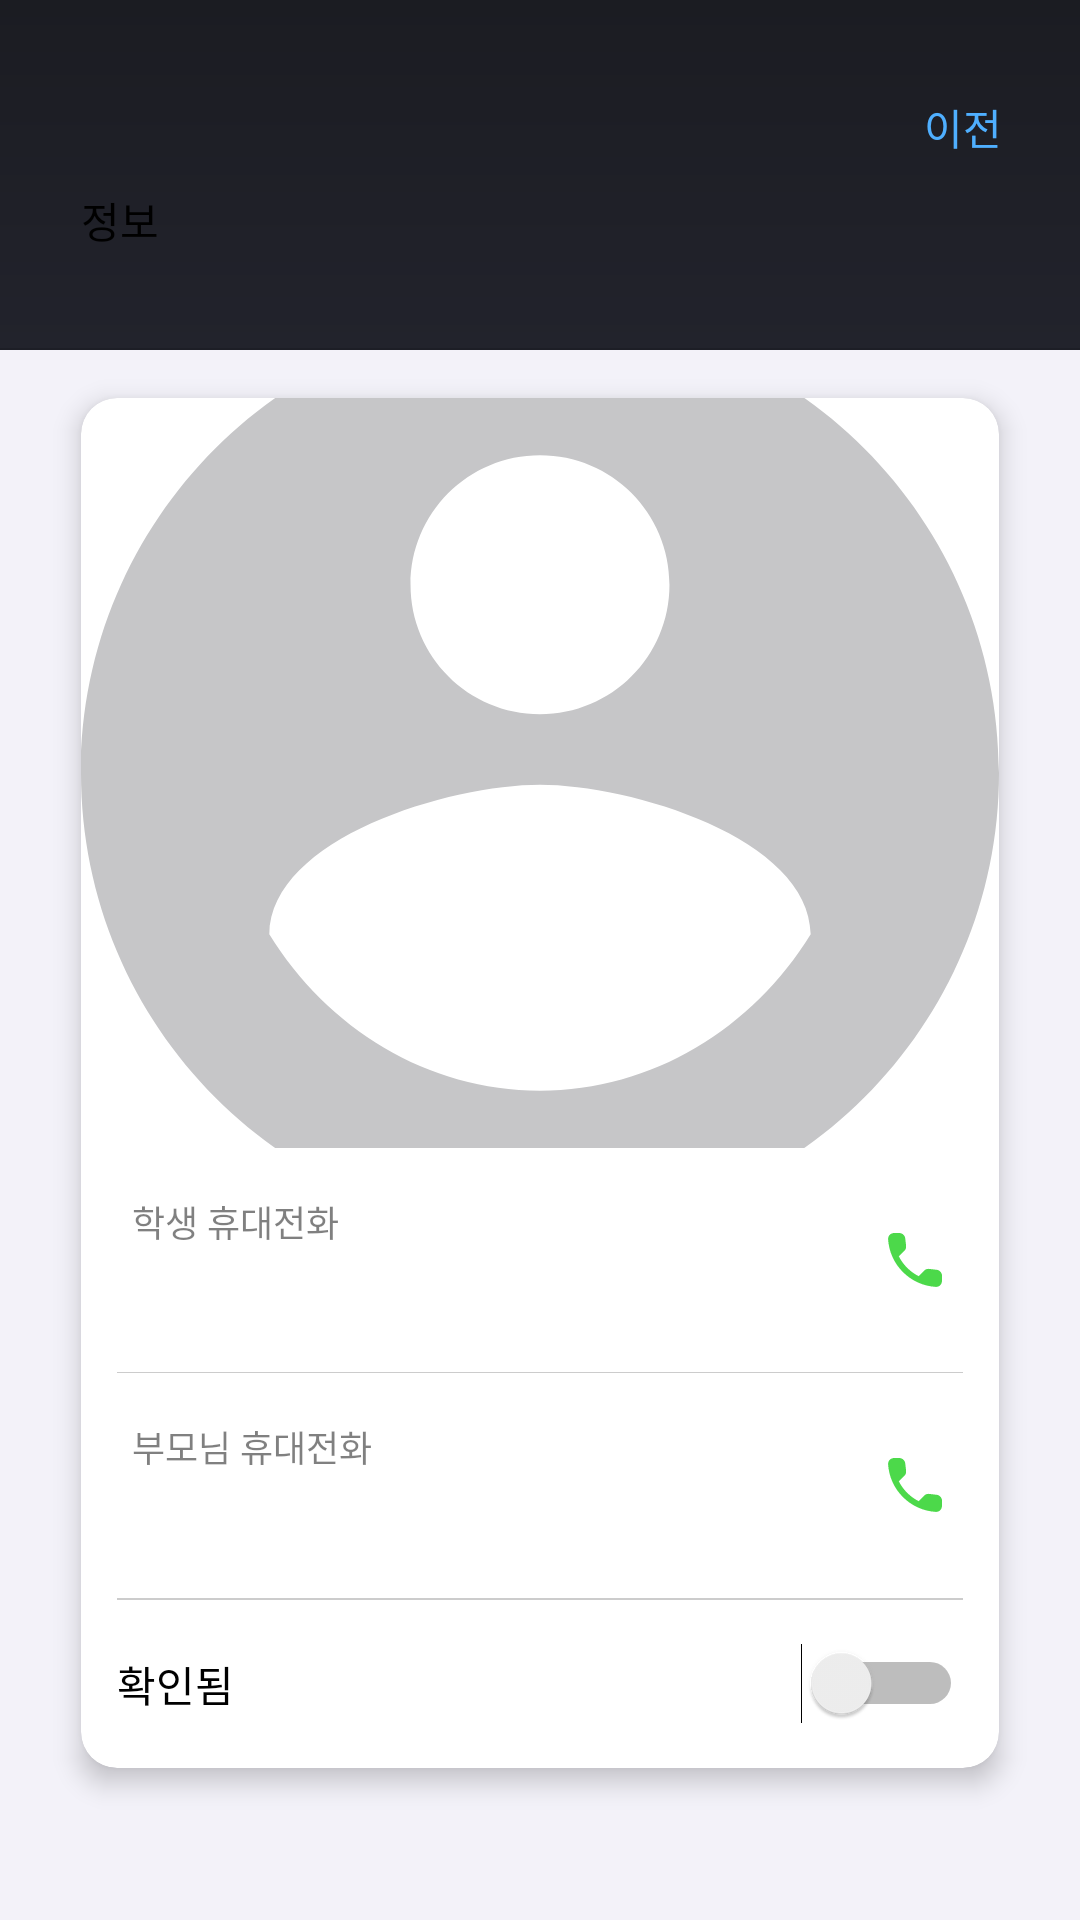

Named icons in this screenshot (1080w x 1920h) and their bounding boxes, (x1, y1, x2, y2):
phone: (888, 1233, 942, 1287), (888, 1458, 942, 1512)
